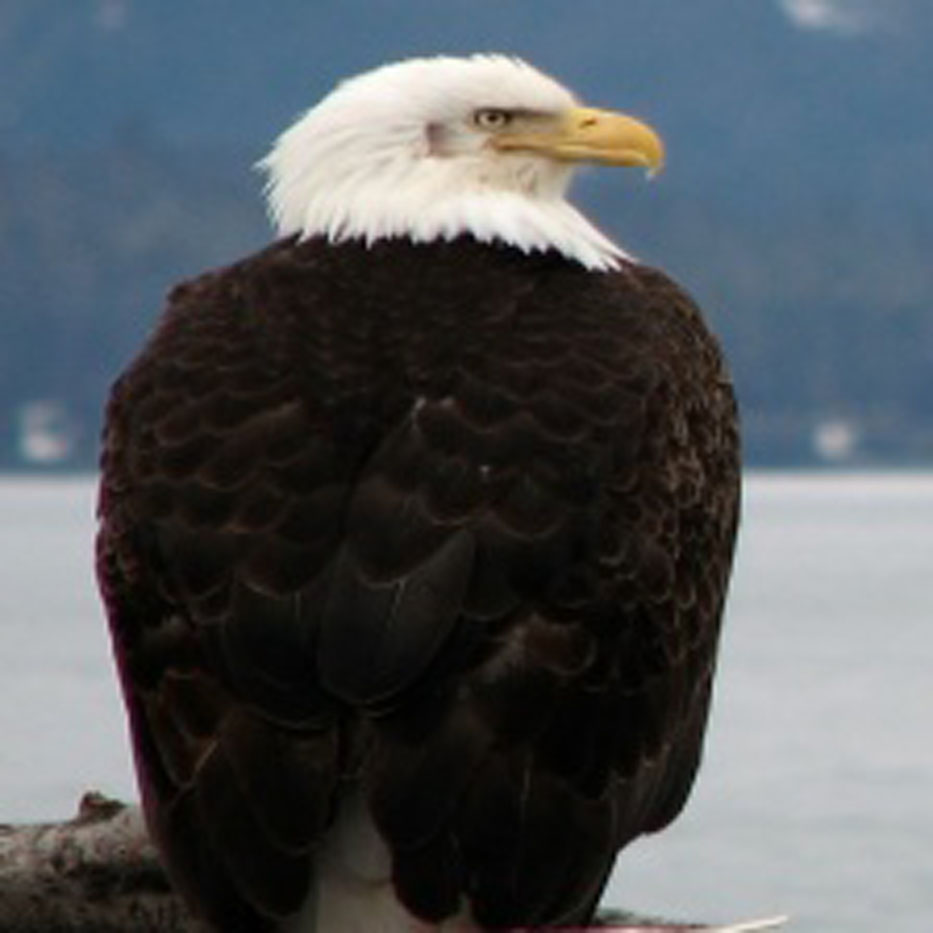Pengoyak Daging: (574, 97, 681, 192)
